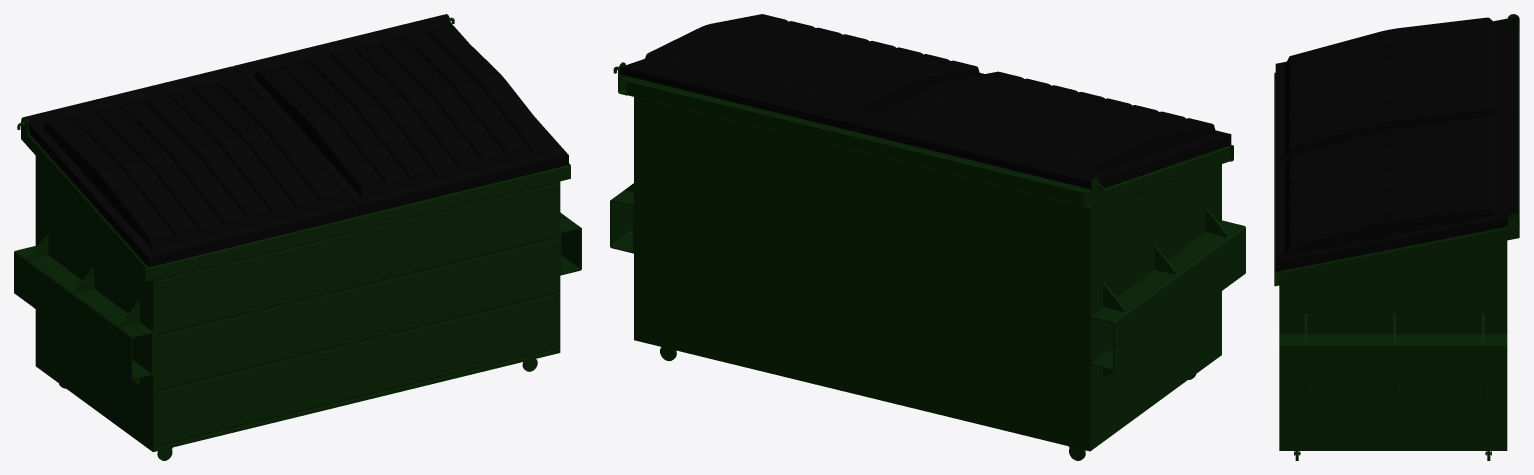
Rendered from dumpster.glb.
3 views of the same model, side by side, from view 1: azimuth 30°, elevation 25°; view 2: azimuth 150°, elevation 25°; view 3: azimuth 270°, elevation 25° (orthographic). The views are drawn at different scales.
Parts seen in each view (by area): view 1: Dumpster, Cover.001, Cover; view 2: Dumpster, Cover.001, Cover; view 3: Dumpster, Cover, Cover.001.
Part boxes in pixels (x1,y1,x2,y2): Dumpster: [14, 14, 581, 452]; Cover.001: [25, 66, 358, 267]; Cover: [234, 14, 568, 215]; Dumpster: [610, 62, 1245, 451]; Cover.001: [856, 71, 1231, 189]; Cover: [620, 14, 984, 131]; Dumpster: [1274, 14, 1519, 450]; Cover: [1275, 116, 1518, 271]; Cover.001: [1275, 16, 1518, 163].
Size of the model in its own units: 1.99 by 1.14 by 0.9694.
